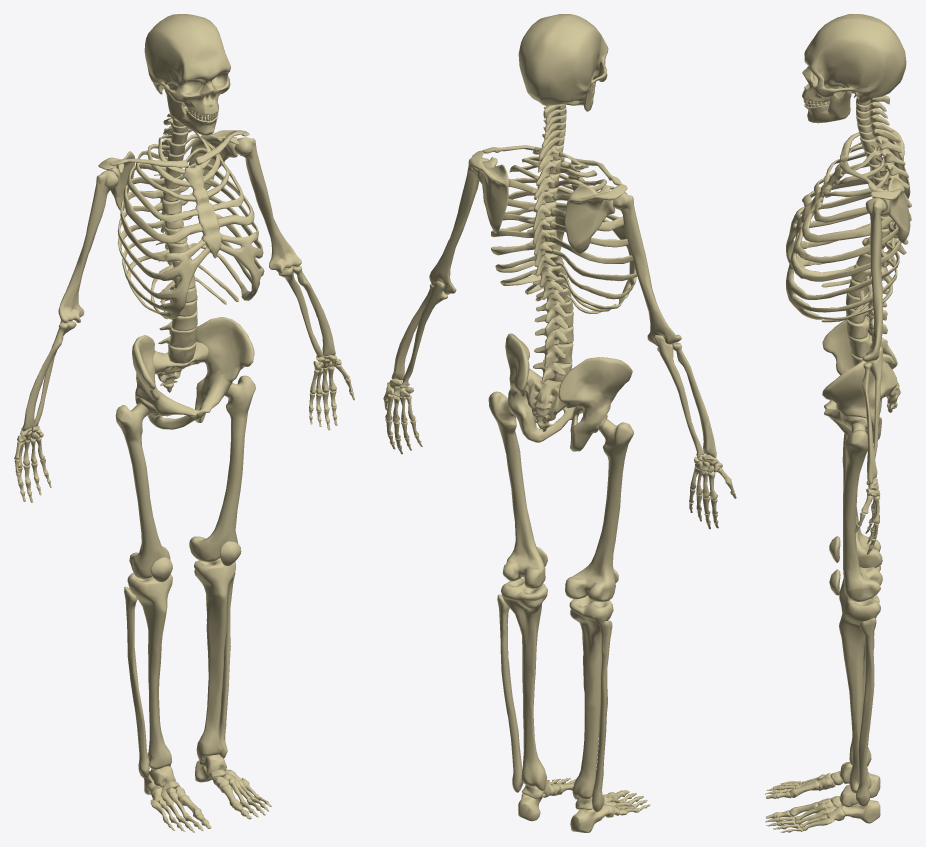
Rendered from human_skeleton.glb.
3 views of the same model, side by side, from view 1: azimuth 30°, elevation 25°; view 2: azimuth 150°, elevation 25°; view 3: azimuth 270°, elevation 25° (orthographic). The views are drawn at different scales.
Bounding box in the file's own units: 7.24 × 15.88 × 2.68.
